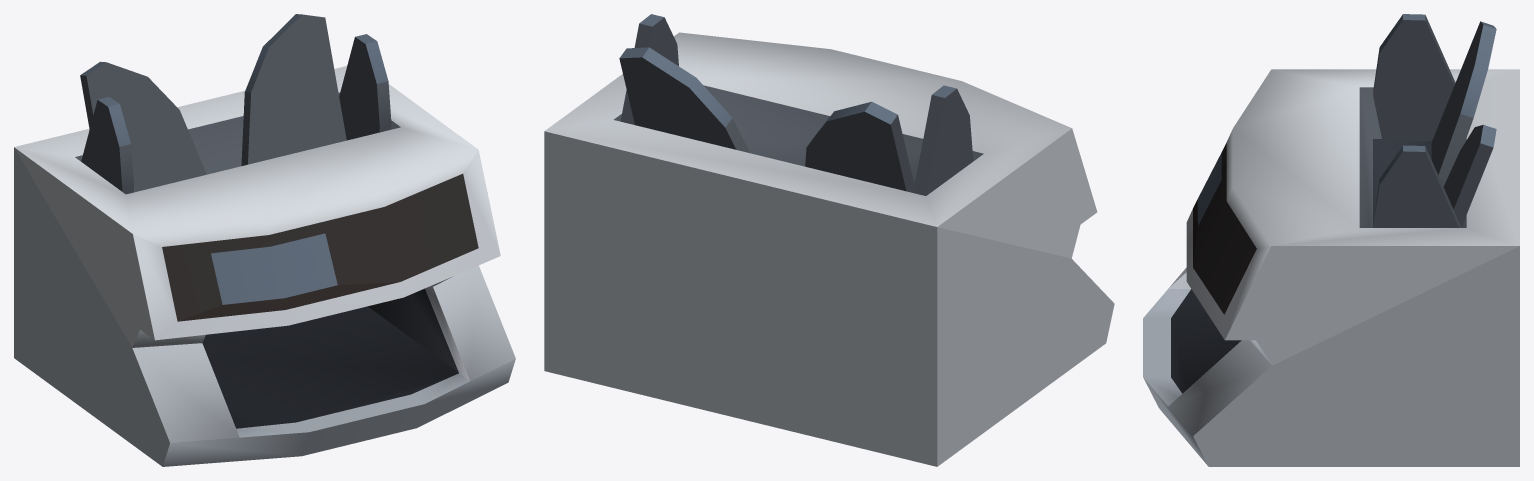
The model's file is maquina_contar_dinheiro_pacote.glb.
3 views of the same model, side by side, from view 1: azimuth 30°, elevation 25°; view 2: azimuth 150°, elevation 25°; view 3: azimuth 270°, elevation 25° (orthographic). The views are drawn at different scales.
Parts seen in each view (by area): view 1: maquina_contar_dinheiro_pacote; view 2: maquina_contar_dinheiro_pacote; view 3: maquina_contar_dinheiro_pacote.
Part boxes in pixels (box(x1,y1,x2,y2)): maquina_contar_dinheiro_pacote: box(14, 14, 515, 466); maquina_contar_dinheiro_pacote: box(544, 14, 1114, 466); maquina_contar_dinheiro_pacote: box(1143, 14, 1519, 466).
Size of the model in its own units: 0.3273 by 0.2627 by 0.2951.
1 material, 1 textured.
